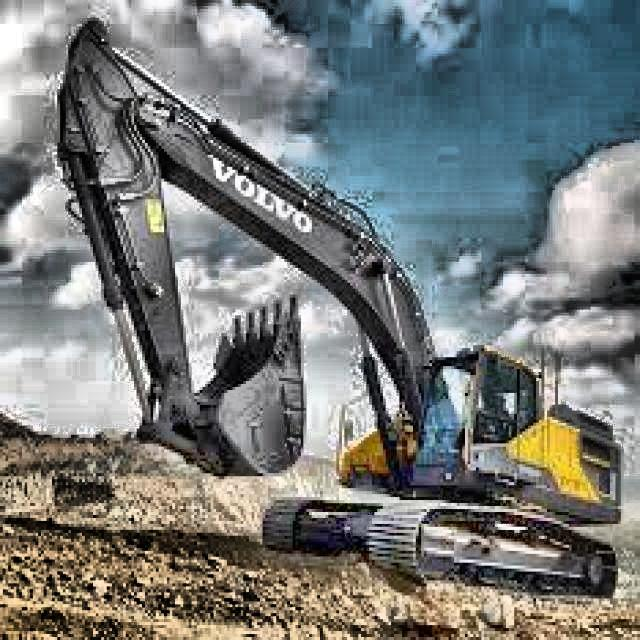bull_dozer/loader/grader: (45, 7, 628, 601)
person: (488, 388, 510, 432)
